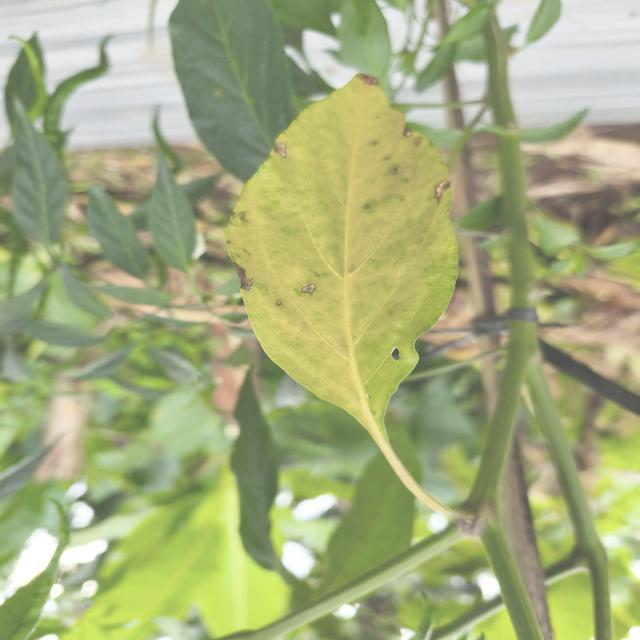Virus Kuning: (223, 74, 467, 434)
